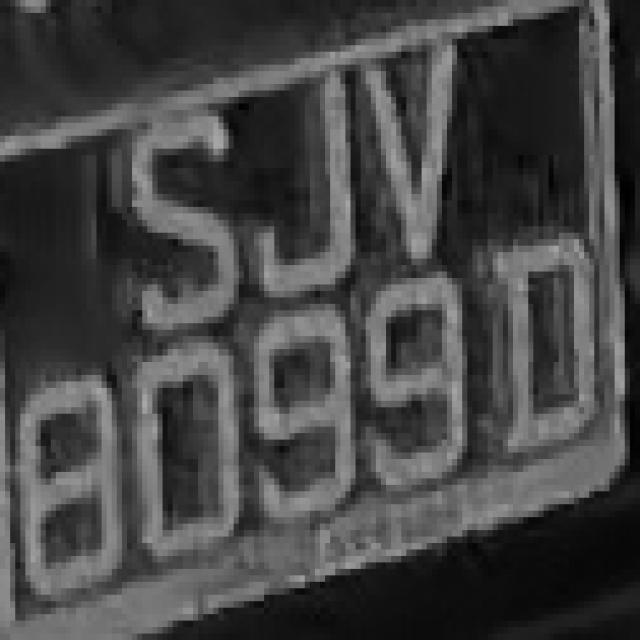0: (122, 336, 254, 582)
8: (15, 349, 132, 595)
9: (238, 284, 356, 524), (356, 259, 462, 504)
D: (498, 220, 614, 472)
J: (234, 52, 366, 304)
S: (106, 84, 234, 336)
V: (356, 26, 472, 278)
